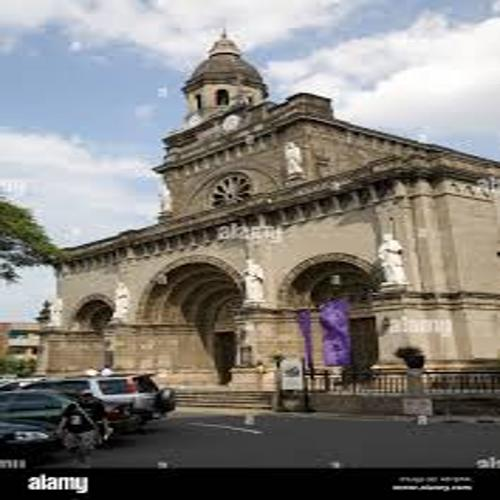Manila Cathedral Church: (29, 21, 489, 388)
